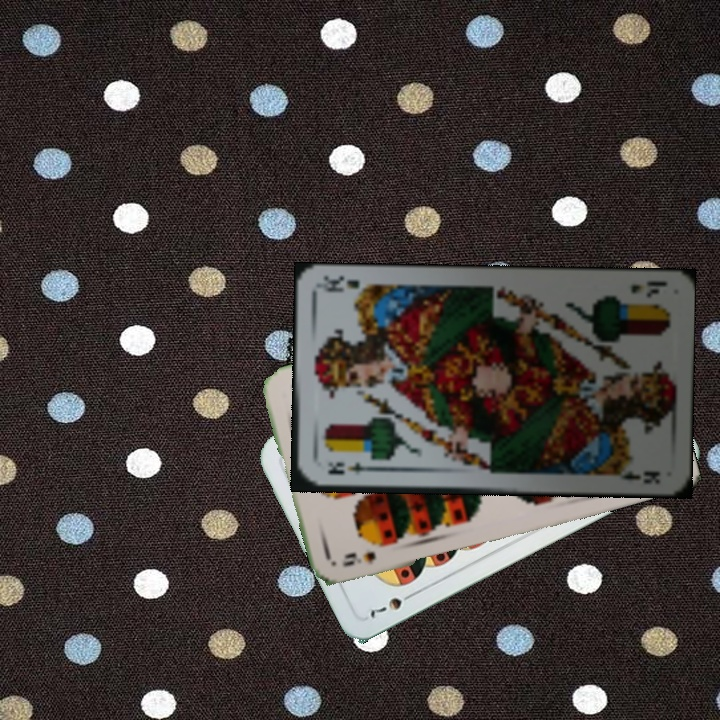EK: (626, 278, 669, 301), (323, 458, 375, 477)
S7: (366, 587, 419, 621)
S9: (339, 547, 379, 569)
